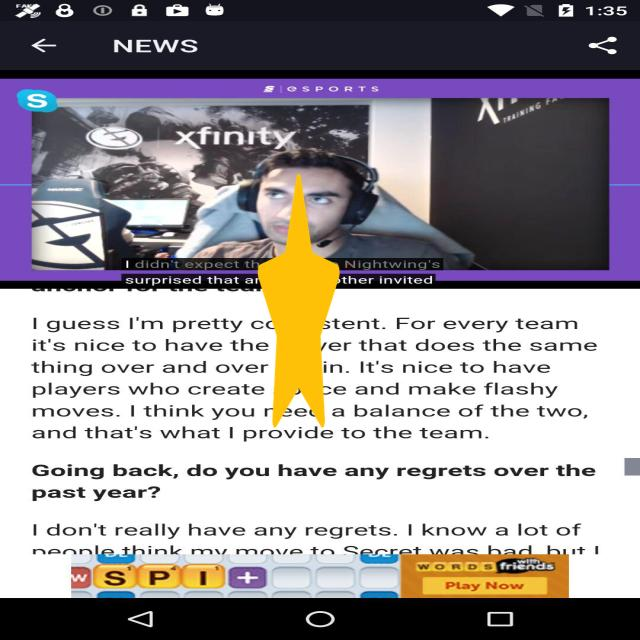forced continuity: (258, 174, 340, 428)
